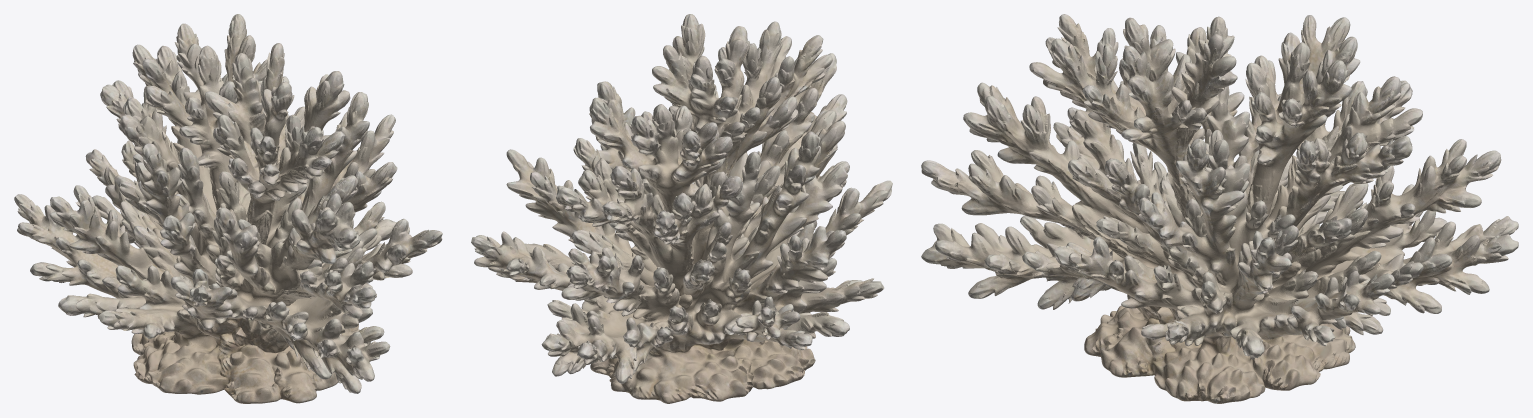
File: bleached-coral.glb
3 views of the same model, side by side, from view 1: azimuth 30°, elevation 25°; view 2: azimuth 150°, elevation 25°; view 3: azimuth 270°, elevation 25° (orthographic). The views are drawn at different scales.
Visible parts, largest first — view 1: tripo_node_a47b65dd-fddd-4b73-a91d-bc407eee9887; view 2: tripo_node_a47b65dd-fddd-4b73-a91d-bc407eee9887; view 3: tripo_node_a47b65dd-fddd-4b73-a91d-bc407eee9887.
Part boxes in pixels (<box>): tripo_node_a47b65dd-fddd-4b73-a91d-bc407eee9887: <box>14,14,442,403</box>; tripo_node_a47b65dd-fddd-4b73-a91d-bc407eee9887: <box>471,14,892,403</box>; tripo_node_a47b65dd-fddd-4b73-a91d-bc407eee9887: <box>921,14,1518,403</box>.
Size of the model in its own units: 0.7233 by 0.6135 by 0.998.
1 material, 1 textured.
